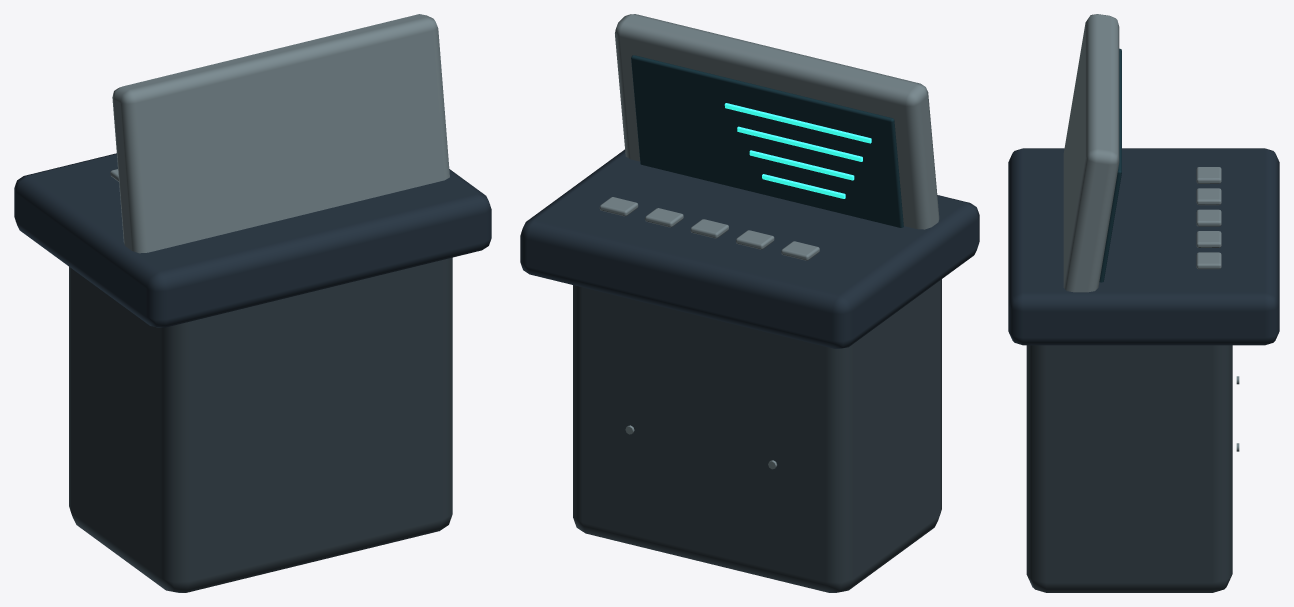
File: control-terminal.glb
3 views of the same model, side by side, from view 1: azimuth 30°, elevation 25°; view 2: azimuth 150°, elevation 25°; view 3: azimuth 270°, elevation 25° (orthographic). The views are drawn at different scales.
Visible parts, largest first — view 1: Control console / Gunmetal, screen / Brushed titanium, Control console / Graphite polymer; view 2: Control console / Gunmetal, Control console / Graphite polymer, screen / Sensor glass, screen / Brushed titanium, screen / Phase emitter, Control console / Brushed titanium; view 3: Control console / Gunmetal, Control console / Graphite polymer, screen / Brushed titanium, Control console / Brushed titanium, screen / Sensor glass.
Boxes of the visible parts, bbox=[...] form: Control console / Gunmetal: bbox=[69, 257, 452, 592]; screen / Brushed titanium: bbox=[112, 14, 449, 253]; Control console / Graphite polymer: bbox=[14, 153, 491, 327]; Control console / Gunmetal: bbox=[573, 279, 941, 592]; Control console / Graphite polymer: bbox=[520, 149, 979, 348]; screen / Sensor glass: bbox=[631, 55, 903, 227]; screen / Brushed titanium: bbox=[615, 14, 939, 229]; screen / Phase emitter: bbox=[724, 103, 871, 198]; Control console / Brushed titanium: bbox=[599, 197, 819, 469]; Control console / Gunmetal: bbox=[1026, 345, 1232, 592]; Control console / Graphite polymer: bbox=[1008, 148, 1279, 345]; screen / Brushed titanium: bbox=[1063, 14, 1119, 292]; Control console / Brushed titanium: bbox=[1196, 167, 1239, 451]; screen / Sensor glass: bbox=[1099, 48, 1121, 282].
Bounding box in the file's own units: 1.02 × 1.38 × 0.75.
